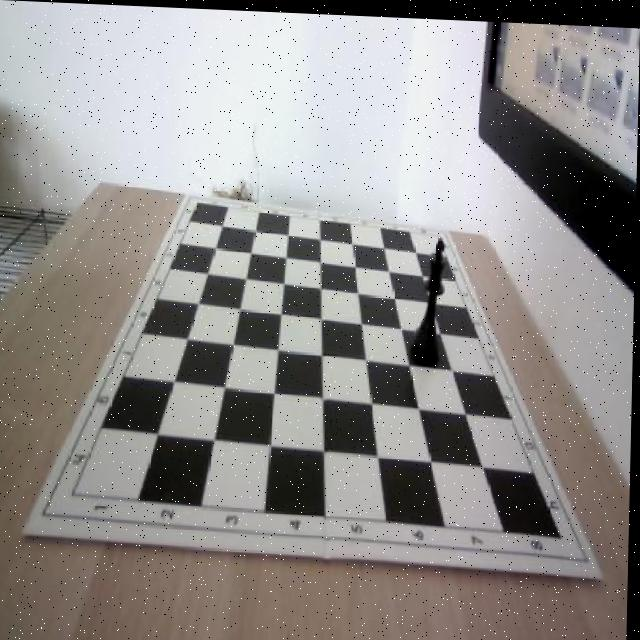black-bishop: (411, 229, 449, 366)
